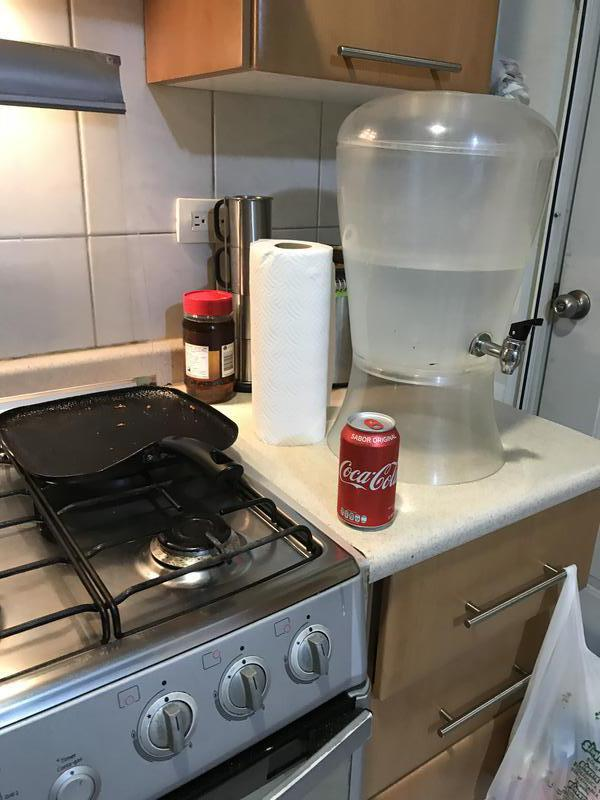coca_cola: (340, 412, 397, 533)
